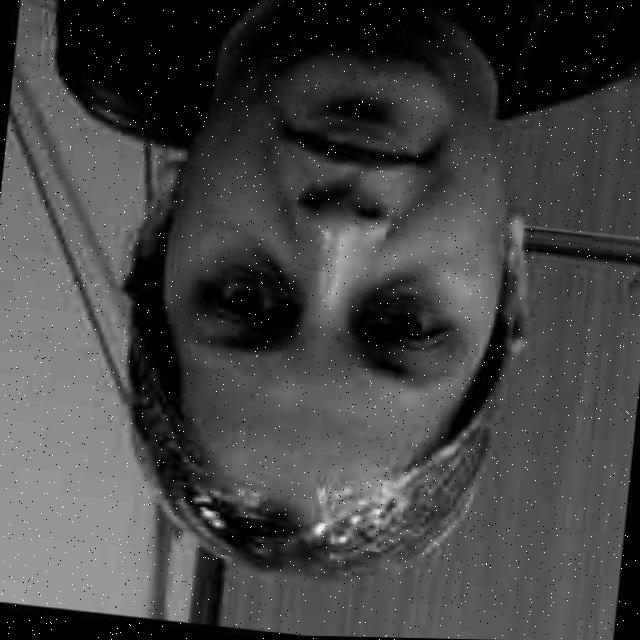puffy_eyes: (220, 252, 293, 294), (358, 278, 442, 311)
